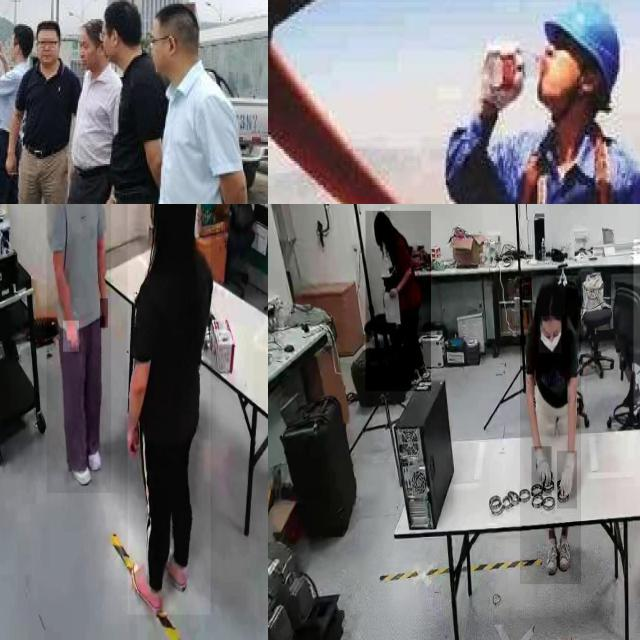No_Ear-Protection: (542, 0, 621, 128), (164, 32, 179, 59), (108, 26, 122, 50)
face_mask: (538, 316, 562, 353)
hand_glove: (557, 451, 577, 509), (532, 446, 552, 497)
hand_noglove: (125, 416, 142, 456), (63, 320, 79, 352), (100, 298, 108, 328), (388, 284, 398, 298)
head_nohelmet: (536, 274, 566, 316), (374, 211, 391, 226)
person: (127, 204, 210, 615), (520, 277, 582, 585), (46, 204, 111, 493), (366, 211, 432, 392)
shoes: (128, 558, 162, 616), (158, 532, 188, 593), (65, 442, 91, 488), (81, 430, 102, 472), (543, 537, 559, 576), (558, 534, 572, 576)
